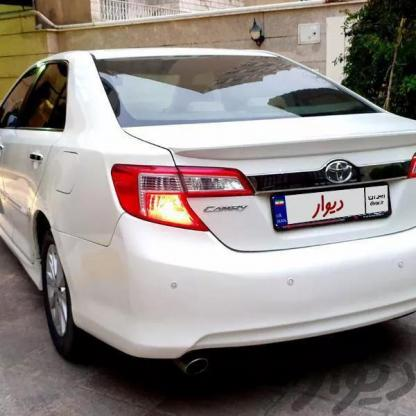Car: (0, 49, 416, 366)
